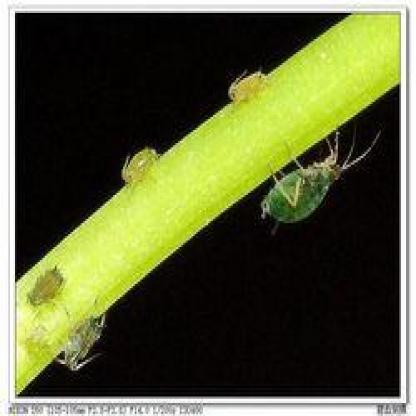aphid: (244, 127, 369, 229), (46, 306, 116, 376), (18, 255, 80, 308), (106, 142, 171, 184), (228, 65, 274, 106)
